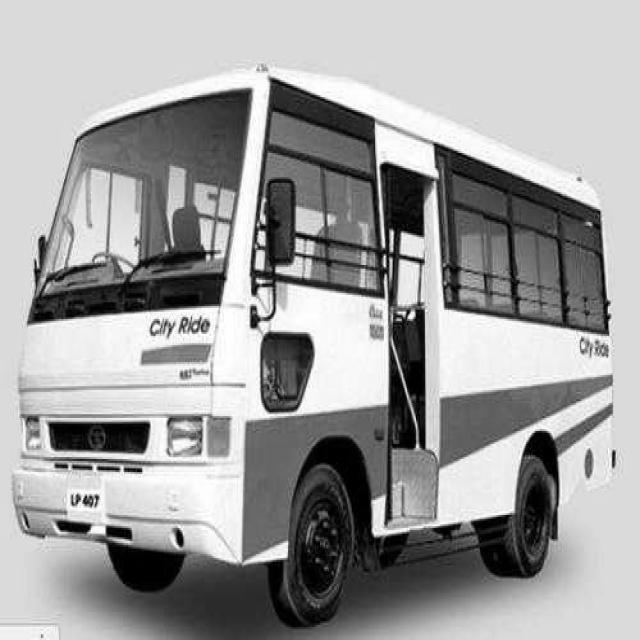Bus: (12, 66, 618, 624)
